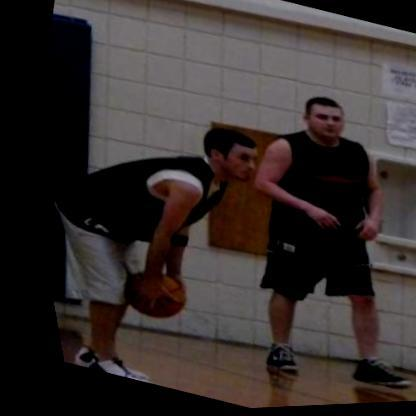basketball: (109, 265, 181, 325)
